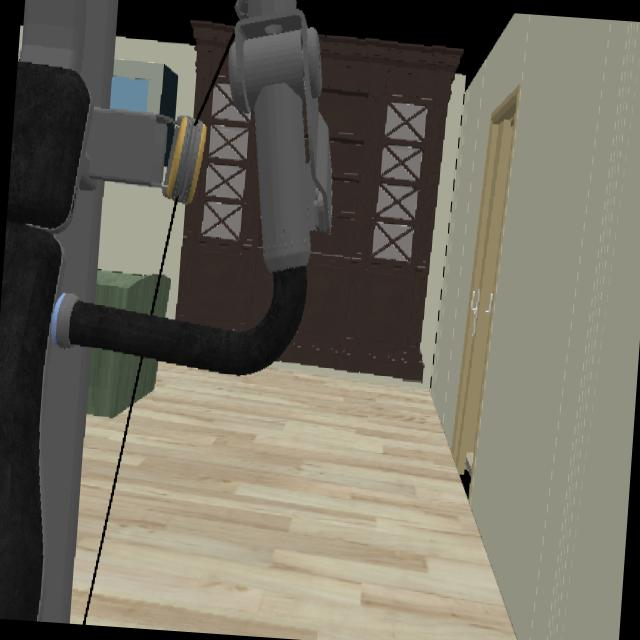bookshelf: (279, 35, 463, 381), (175, 20, 272, 333)
cabinet: (110, 59, 177, 119)
sofa: (93, 254, 176, 319), (86, 348, 156, 420)
